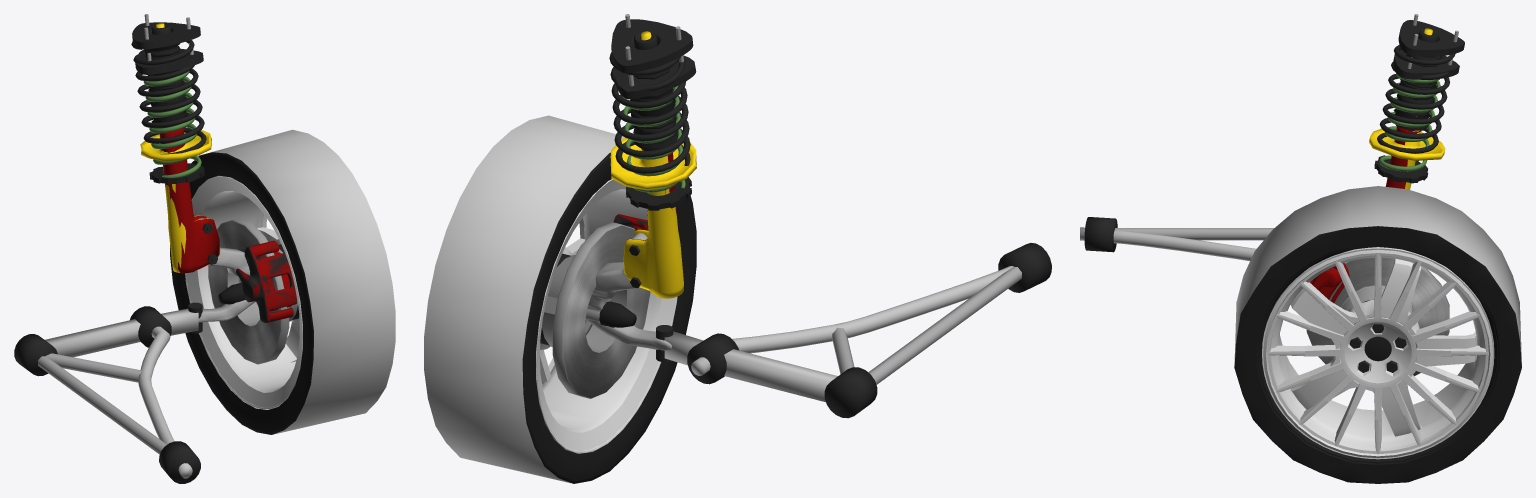
Rendered from 2609SuspensionFL.FBX.
3 renders of one model, left to right at view 1: azimuth 30°, elevation 25°; view 2: azimuth 150°, elevation 25°; view 3: azimuth 270°, elevation 25°, orthographic. The views are drawn at different scales.
Parts seen in each view (by area): view 1: 09WheelFLType2, 09ArmL, 09WheelFLType1, 09AbsorberFLStock, 09AbsorberFLSport, 09BrakeDiskFL, 09CaliperFLSport, 09CaliperFLStock, 09HubFL; view 2: 09WheelFLType2, 09ArmL, 09AbsorberFLStock, 09WheelFLType1, 09BrakeDiskFL, 09AbsorberFLSport, 09HubFL; view 3: 09WheelFLType2, 09WheelFLType1, 09AbsorberFLStock, 09ArmL, 09AbsorberFLSport, 09BrakeDiskFL, 09CaliperFLSport.
Part boxes in pixels (left/top/right/bottom): 09WheelFLType2: left=170, top=129, right=395, bottom=434; 09ArmL: left=14, top=302, right=202, bottom=483; 09WheelFLType1: left=183, top=173, right=303, bottom=412; 09AbsorberFLStock: left=131, top=14, right=220, bottom=272; 09AbsorberFLSport: left=135, top=43, right=219, bottom=273; 09BrakeDiskFL: left=208, top=218, right=297, bottom=364; 09CaliperFLSport: left=236, top=240, right=296, bottom=322; 09CaliperFLStock: left=236, top=244, right=296, bottom=322; 09HubFL: left=198, top=218, right=258, bottom=322; 09WheelFLType2: left=424, top=115, right=696, bottom=483; 09ArmL: left=656, top=243, right=1051, bottom=418; 09AbsorberFLStock: left=609, top=14, right=696, bottom=298; 09WheelFLType1: left=535, top=178, right=682, bottom=456; 09BrakeDiskFL: left=542, top=222, right=650, bottom=398; 09AbsorberFLSport: left=614, top=55, right=696, bottom=284; 09HubFL: left=585, top=233, right=671, bottom=350; 09WheelFLType2: left=1234, top=186, right=1521, bottom=483; 09WheelFLType1: left=1257, top=244, right=1498, bottom=463; 09AbsorberFLStock: left=1369, top=14, right=1464, bottom=189; 09ArmL: left=1080, top=217, right=1273, bottom=261; 09AbsorberFLSport: left=1374, top=49, right=1459, bottom=188; 09BrakeDiskFL: left=1306, top=257, right=1449, bottom=376; 09CaliperFLSport: left=1309, top=263, right=1349, bottom=302.
Size of the model in its own units: 21.89 by 27.81 by 28.28.
